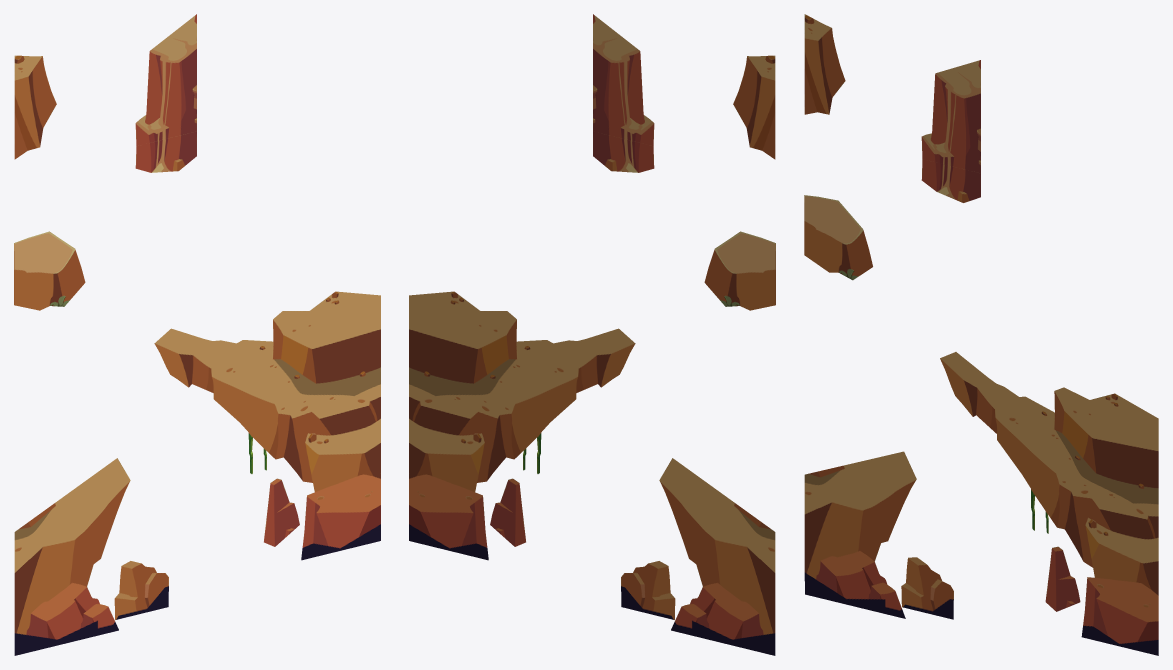
The model's file is W4C2_Cliff.FBX.
The picture shows the model from 3 angles, left to right: view 1: azimuth 30°, elevation 25°; view 2: azimuth 150°, elevation 25°; view 3: azimuth 330°, elevation 25°; orthographic projection. The views are drawn at different scales.
Visible parts, largest first — view 1: Plane002, Object003, Object004, Object001, Object002; view 2: Plane002, Object003, Object004, Object001, Object002; view 3: Plane002, Object003, Object004, Object001, Object002.
Part boxes in pixels (left/top/right/bottom): Plane002: left=14, top=291, right=380, bottom=562; Object003: left=14, top=473, right=380, bottom=655; Object004: left=14, top=14, right=196, bottom=159; Object001: left=14, top=231, right=85, bottom=310; Object002: left=135, top=131, right=196, bottom=172; Plane002: left=409, top=291, right=775, bottom=562; Object003: left=409, top=473, right=775, bottom=655; Object004: left=593, top=14, right=775, bottom=159; Object001: left=704, top=231, right=775, bottom=310; Object002: left=593, top=131, right=654, bottom=172; Plane002: left=804, top=352, right=1158, bottom=590; Object003: left=804, top=504, right=1158, bottom=655; Object004: left=804, top=14, right=980, bottom=173; Object001: left=804, top=195, right=872, bottom=280; Object002: left=921, top=159, right=980, bottom=202.
Size of the model in its own units: 400 by 625 by 1.89e-05.
